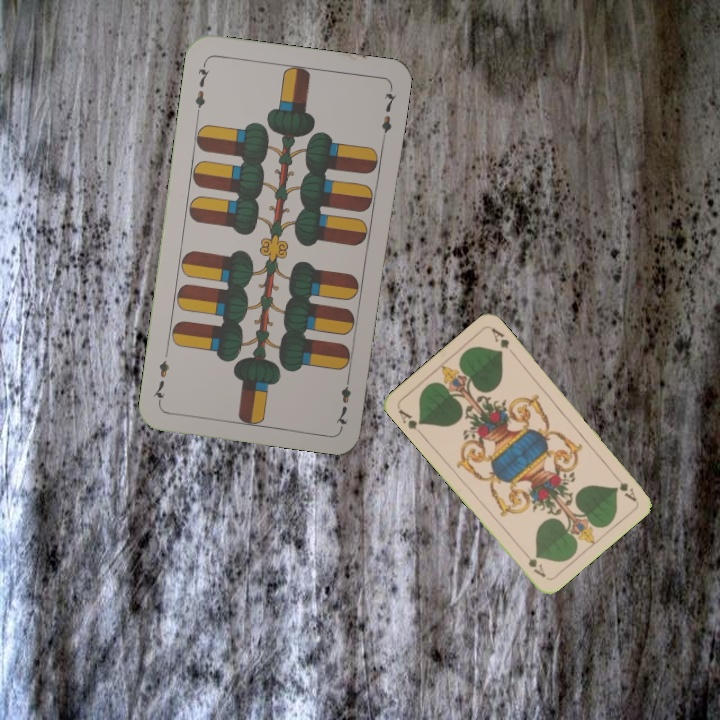E7: (331, 370, 354, 429), (191, 58, 212, 117)
GA: (394, 405, 425, 438), (609, 470, 639, 504)
